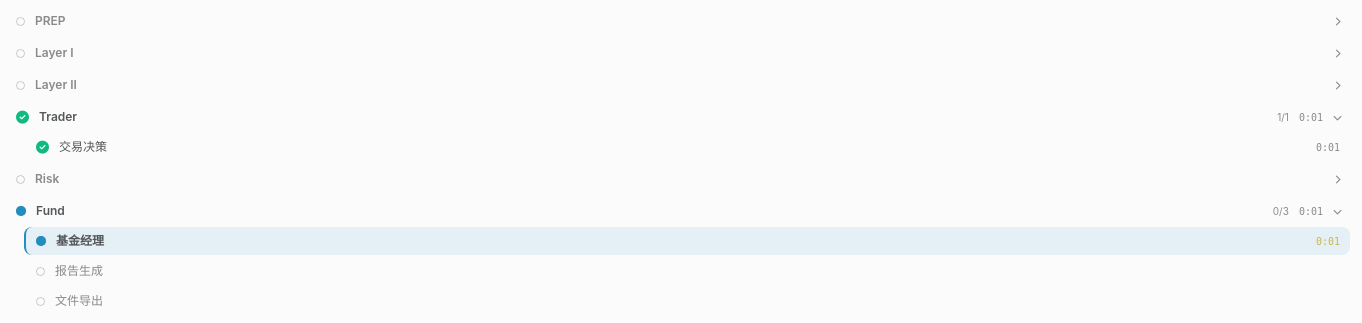
Test: PipelineTimeline - 展开折叠交互 › 用户点击已完成 layer 折叠（用户偏好覆盖默认展开）
Check: the text "交易决策" is shown, box [59,139,107,154]
点击 Trader 层标题折叠
Click the text "Trader".
click(58, 116)  # box [39,109,77,124]
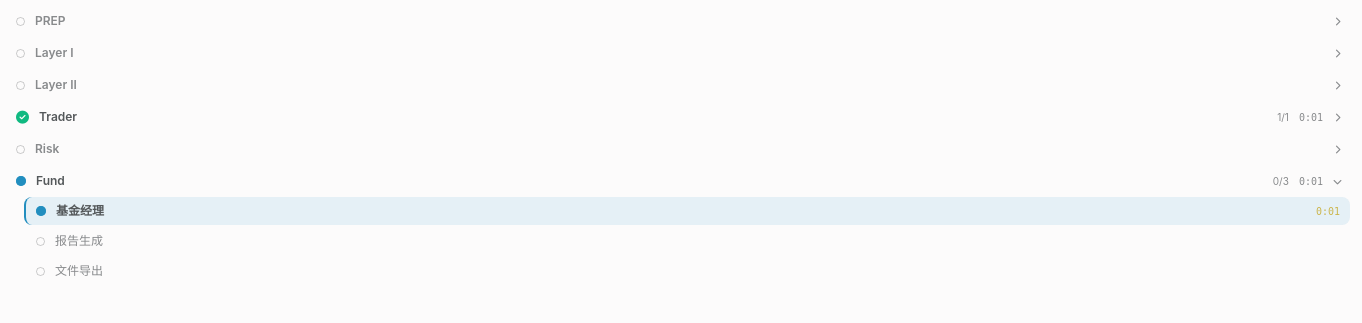
Check: the button "交易决策" is gone
